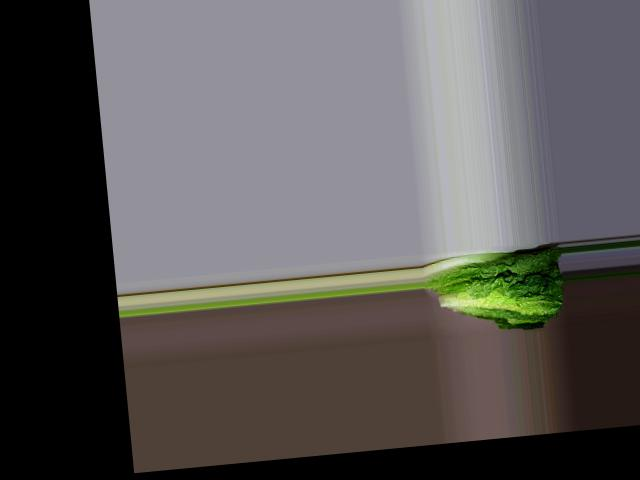lettuce: (427, 242, 568, 328)
